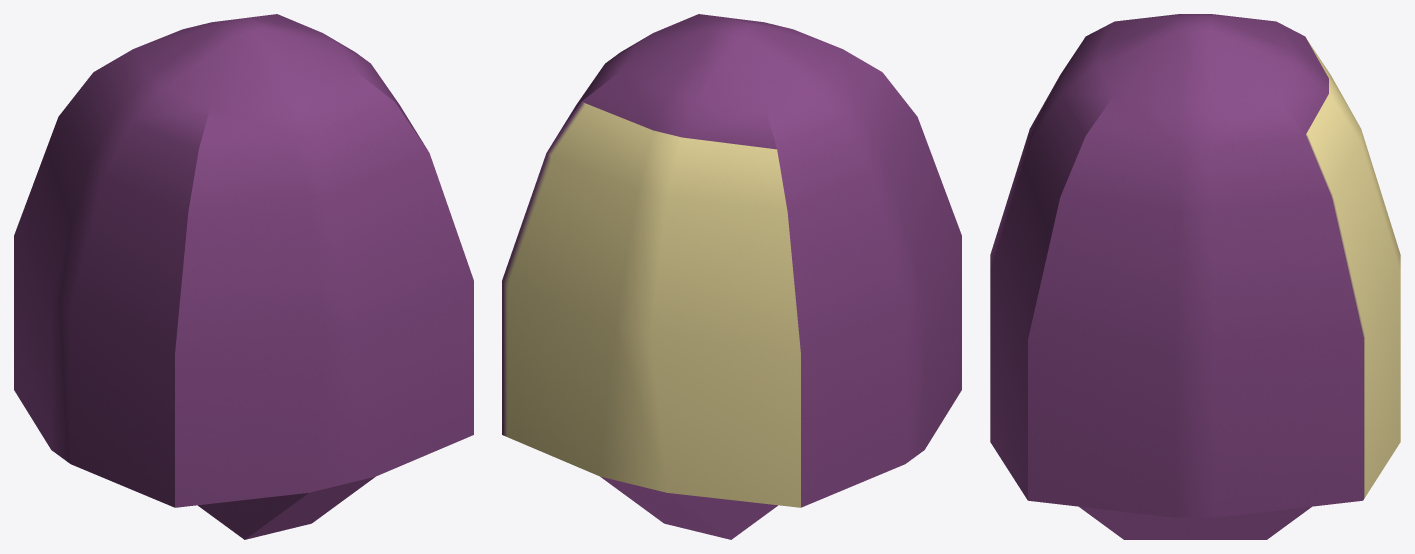
The model's file is p_punta.obj.
The picture shows the model from 3 angles, left to right: view 1: azimuth 30°, elevation 25°; view 2: azimuth 150°, elevation 25°; view 3: azimuth 270°, elevation 25°; orthographic projection. The views are drawn at different scales.
Visible parts, largest first — view 1: B_P; view 2: B_P; view 3: B_P.
Boxes of the visible parts, box(x1,y1,x2,y2) form: B_P: box(14, 14, 473, 539); B_P: box(502, 14, 961, 539); B_P: box(990, 14, 1400, 539).
Bounding box in the file's own units: 3.94 × 4.93 × 3.68.
Materials: 1 (1 with a texture image).
